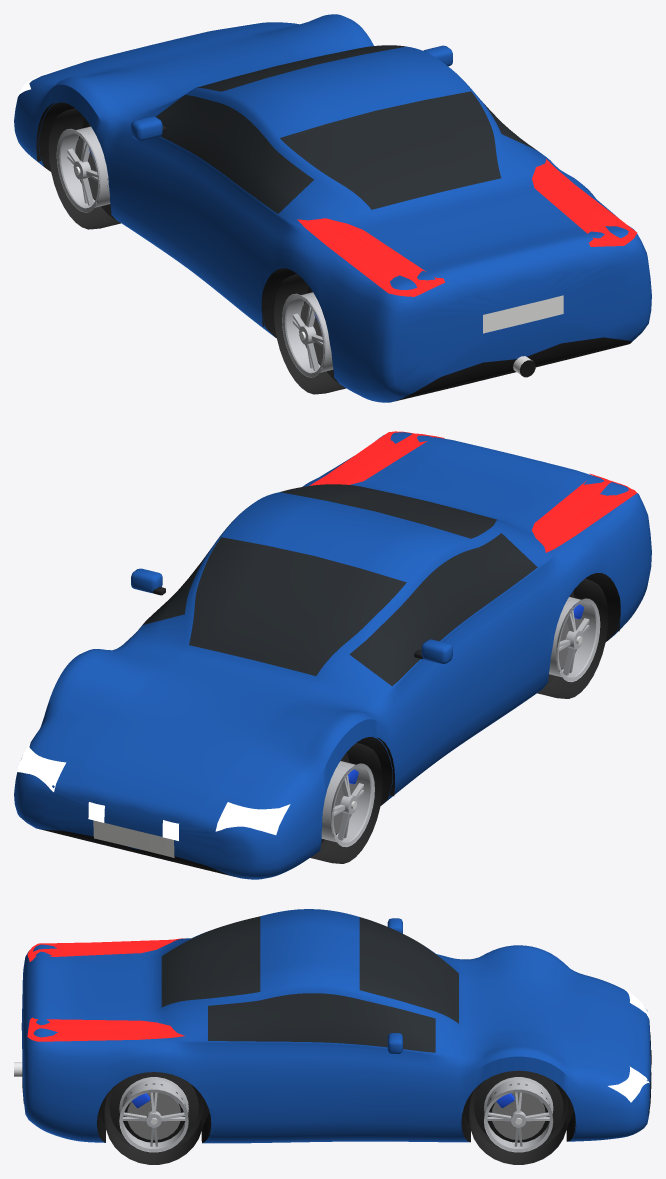
The model's file is alpine_a110.glb.
3 renders of one model, top to bottom at view 1: azimuth 30°, elevation 25°; view 2: azimuth 150°, elevation 25°; view 3: azimuth 270°, elevation 25°, orthographic. The views are drawn at different scales.
Visible parts, largest first — view 1: Body, Wheel_FL, Wheel_RL; view 2: Body, Wheel_FL, Wheel_RL; view 3: Body, Wheel_FR, Wheel_RR.
Part boxes in pixels (bbox=[...]): Body: bbox=[14, 14, 651, 402]; Wheel_FL: bbox=[48, 108, 120, 229]; Wheel_RL: bbox=[274, 274, 345, 394]; Body: bbox=[14, 431, 651, 879]; Wheel_FL: bbox=[310, 743, 382, 863]; Wheel_RL: bbox=[537, 578, 608, 698]; Body: bbox=[14, 909, 651, 1143]; Wheel_FR: bbox=[469, 1070, 568, 1164]; Wheel_RR: bbox=[104, 1072, 203, 1164].
Bounding box in the file's own units: 1.96 × 1.23 × 4.24.
